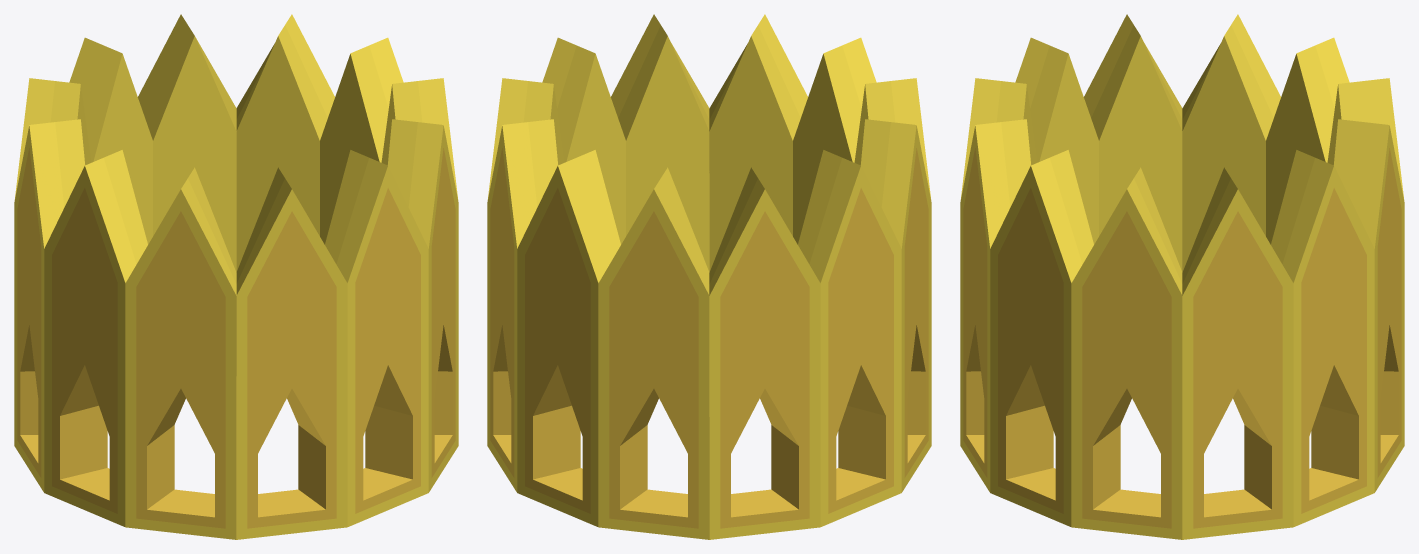
Rendered from Corona.fbx.
3 renders of one model, left to right at view 1: azimuth 30°, elevation 25°; view 2: azimuth 150°, elevation 25°; view 3: azimuth 270°, elevation 25°, orthographic.
Visible parts, largest first — view 1: Cylinder; view 2: Cylinder; view 3: Cylinder.
Part boxes in pixels (x1,y1,x2,y2): Cylinder: [14, 14, 458, 539]; Cylinder: [487, 14, 931, 539]; Cylinder: [960, 14, 1404, 539].
Size of the model in its own units: 200 by 171 by 200.
Materials: 1 (1 with a texture image).
